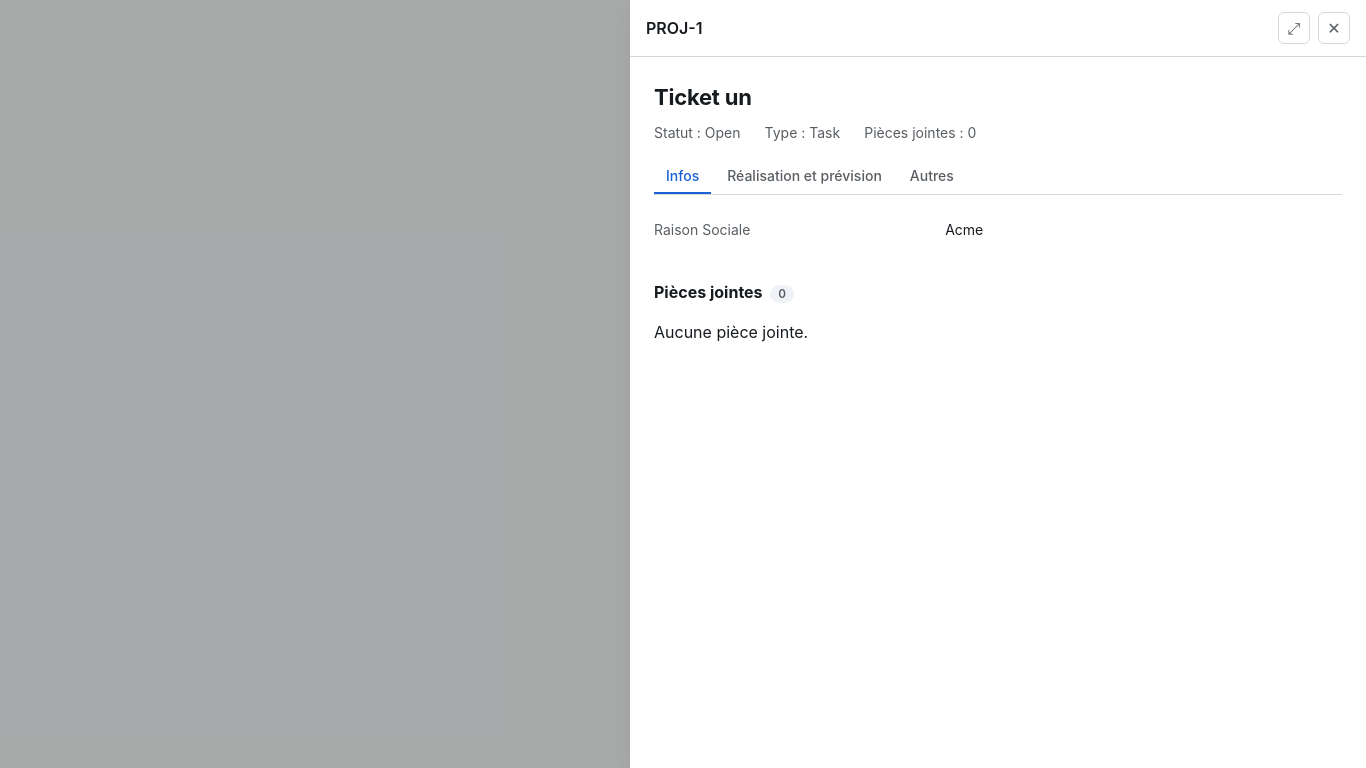
Test case: IssueDetailDrawer — "Réalisation et prévision" tab visibility by role › shows the tab with its fields for the ADMIN role
Expected: the text "Raison Sociale" is shown, [654,221,750,238]
What coordinates should you click on to do the following:
click the button "Réalisation et prévision"
I would click on:
 (804, 176)
Its box is [715,159,894,194].
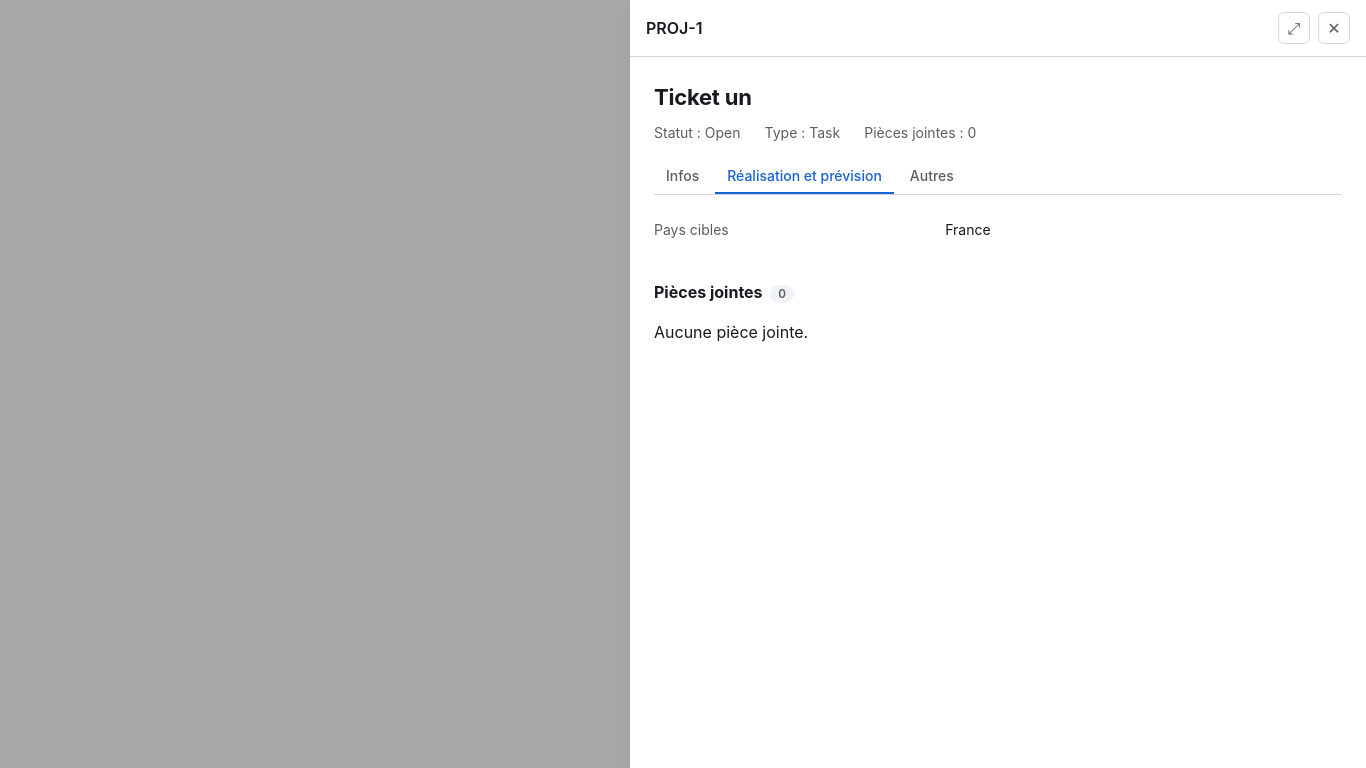
Now the text "Pays cibles" is shown, box [654,221,729,238]
Now the text "France" is shown, box [945,221,991,238]
